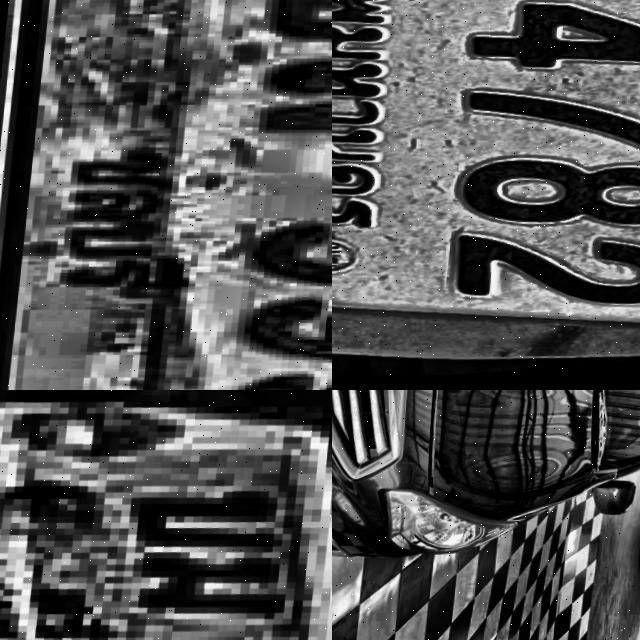license-plate: (0, 0, 332, 390), (332, 0, 640, 390), (0, 390, 332, 640)
